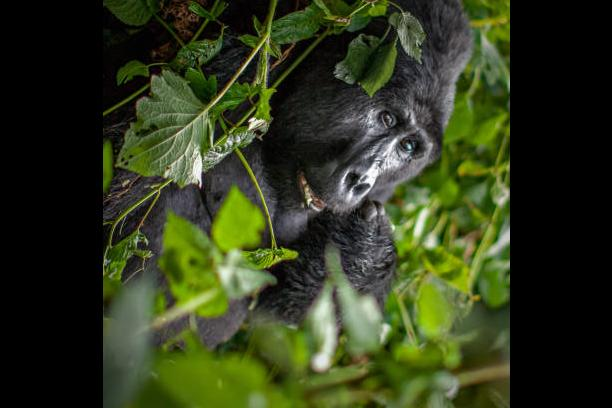goriile_montagne: (102, 2, 488, 376)
